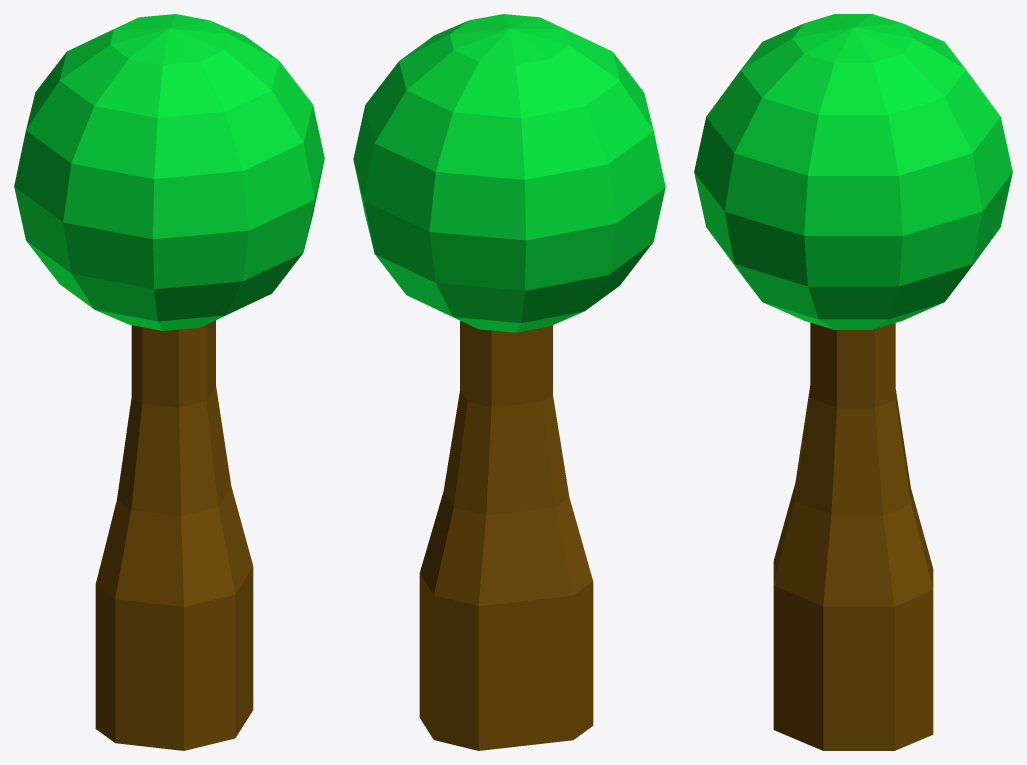
File: tree2.glb
3 views of the same model, side by side, from view 1: azimuth 30°, elevation 25°; view 2: azimuth 150°, elevation 25°; view 3: azimuth 270°, elevation 25° (orthographic).
Parts seen in each view (by area): view 1: Tree2; view 2: Tree2; view 3: Tree2.
Boxes of the visible parts, box(x1,y1,x2,y2) form: Tree2: box(14, 14, 324, 750); Tree2: box(353, 14, 665, 750); Tree2: box(694, 14, 1012, 750).
Size of the model in its own units: 1.9 by 4.77 by 2.
